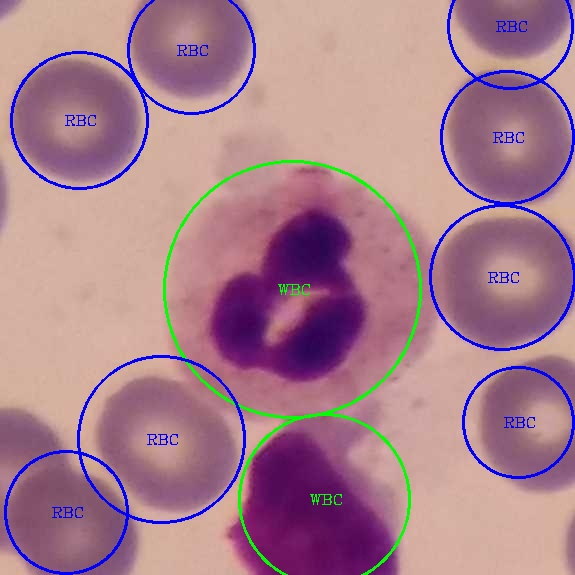RBC: (89, 370, 241, 515), (437, 211, 574, 354), (4, 53, 145, 190), (441, 64, 573, 209), (0, 466, 145, 573), (473, 348, 573, 496), (125, 1, 261, 108), (0, 401, 77, 554)
WBC: (156, 165, 439, 419), (229, 402, 412, 573)
